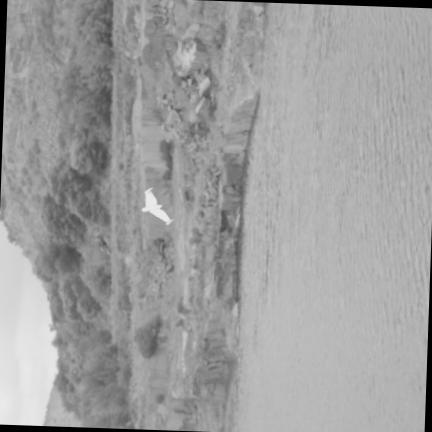Shahed: (142, 187, 173, 224)
